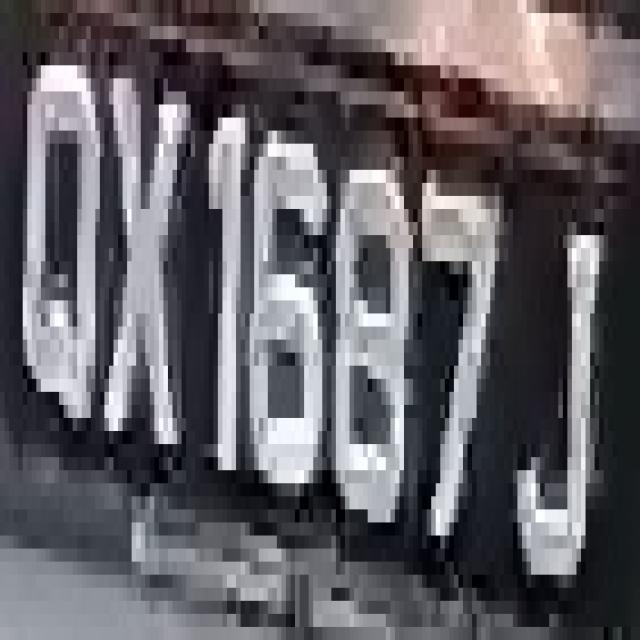1: (195, 39, 254, 536)
6: (250, 104, 326, 536)
7: (408, 143, 504, 574)
8: (331, 79, 413, 548)
J: (513, 183, 613, 588)
Q: (18, 26, 118, 483)
X: (95, 26, 195, 523)
